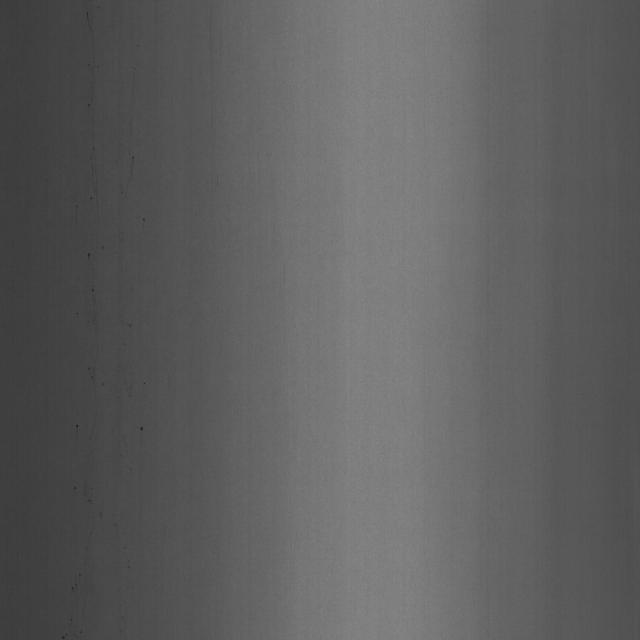oil_spot: (85, 28, 100, 213), (76, 236, 99, 272), (132, 412, 153, 440)
